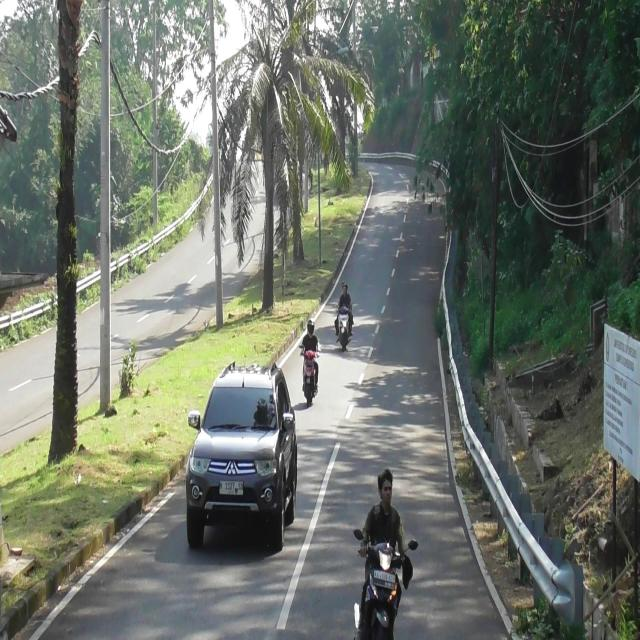motorcycle: (351, 529, 414, 637), (300, 344, 322, 401), (335, 300, 355, 347)
person: (358, 466, 410, 576), (335, 280, 353, 342), (300, 317, 322, 359), (338, 285, 352, 313)
rider_region: (355, 467, 416, 635), (300, 316, 321, 408), (336, 278, 356, 348)
